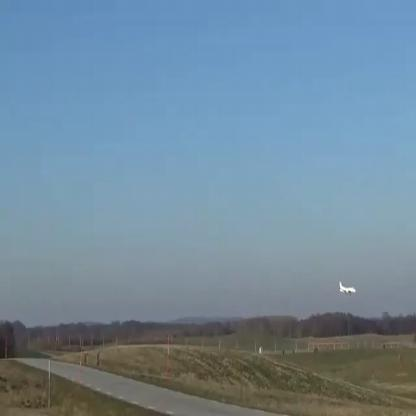aircraft: (339, 280, 356, 293)
